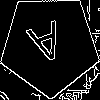A: (25, 20, 70, 75)
